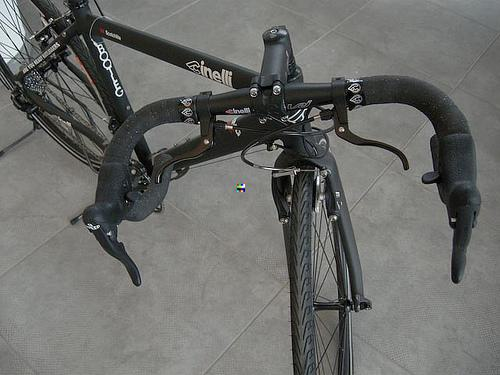car: (1, 1, 482, 375)
